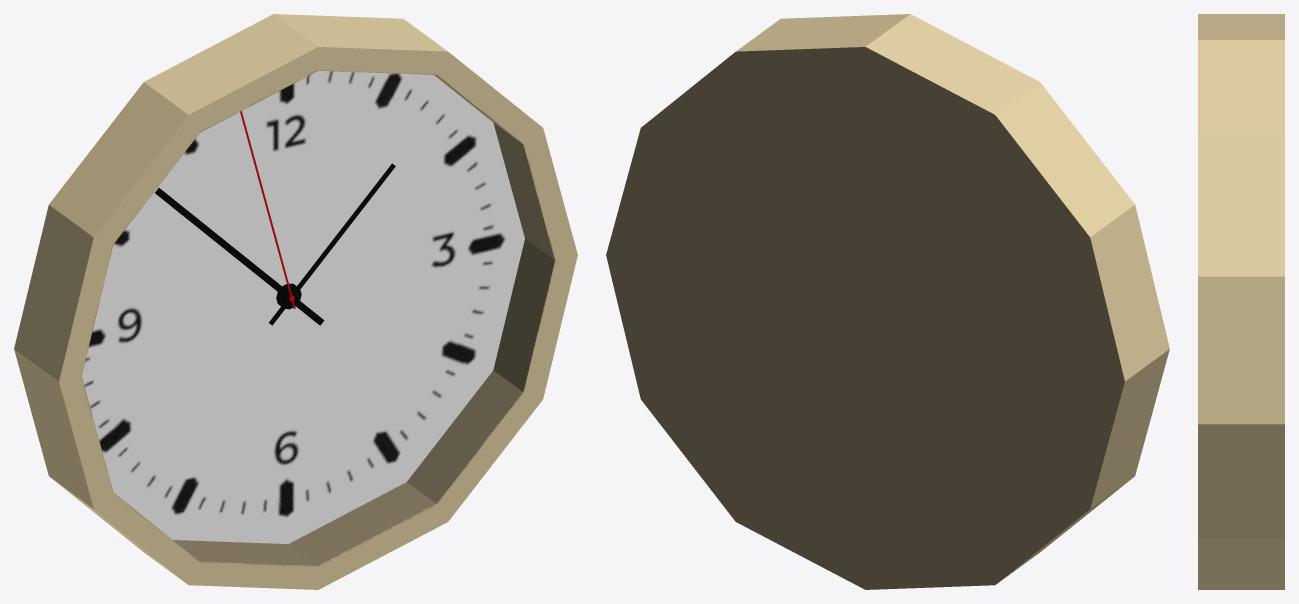
Rendered from Watch_Bege.fbx.
The picture shows the model from 3 angles, left to right: view 1: azimuth 30°, elevation 25°; view 2: azimuth 150°, elevation 25°; view 3: azimuth 270°, elevation 25°; orthographic projection. The views are drawn at different scales.
Parts seen in each view (by area): view 1: Watch.001; view 2: Watch.001; view 3: Watch.001.
Part boxes in pixels (x1,y1,x2,y2): Watch.001: (14,14,577,589); Watch.001: (606,14,1169,589); Watch.001: (1198,14,1284,589).
Size of the model in its own units: 30 by 30 by 4.5.
